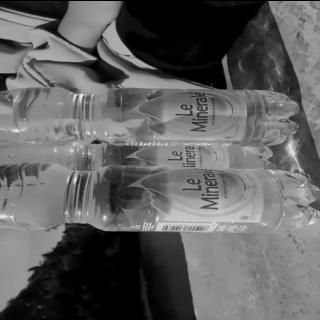plastic_bottles: (0, 162, 320, 232), (2, 80, 310, 146)
